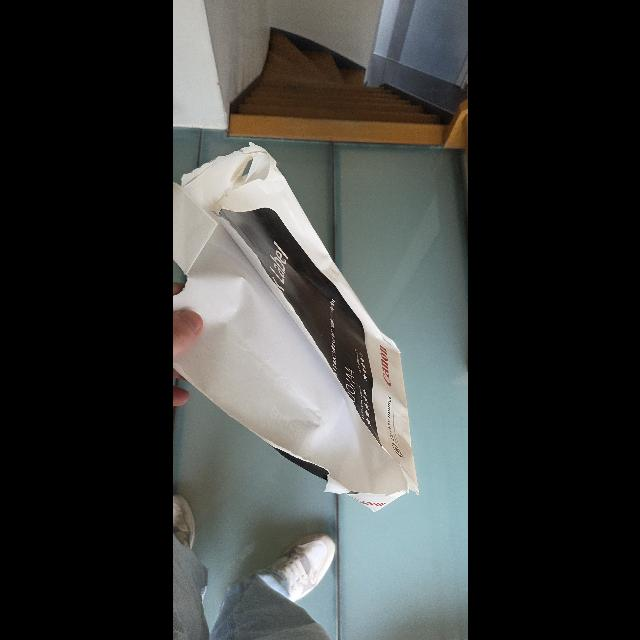Cardboard: (172, 138, 422, 514)
